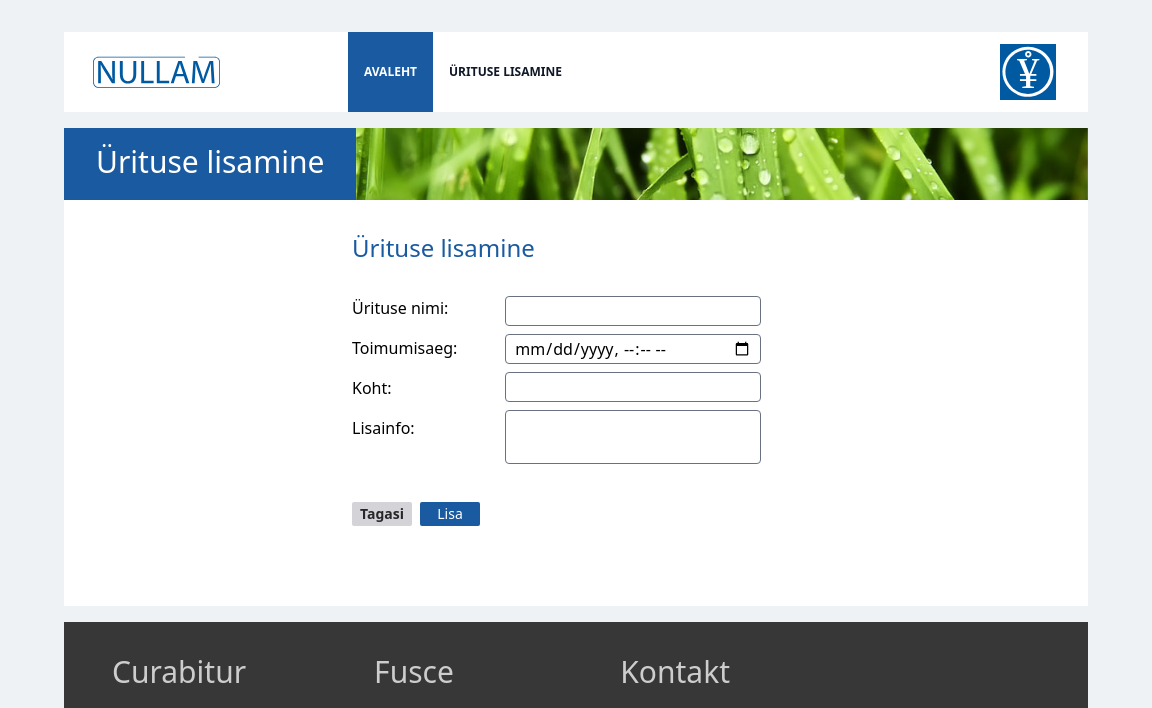
Scenario: LisaYritus komponent › näitab valideerimise vigu tühja vormi esitamisel
What coordinates should you click on to do the following:
click the button "Lisa"
I would click on:
 (450, 514)
Its box is [420,502,480,526].
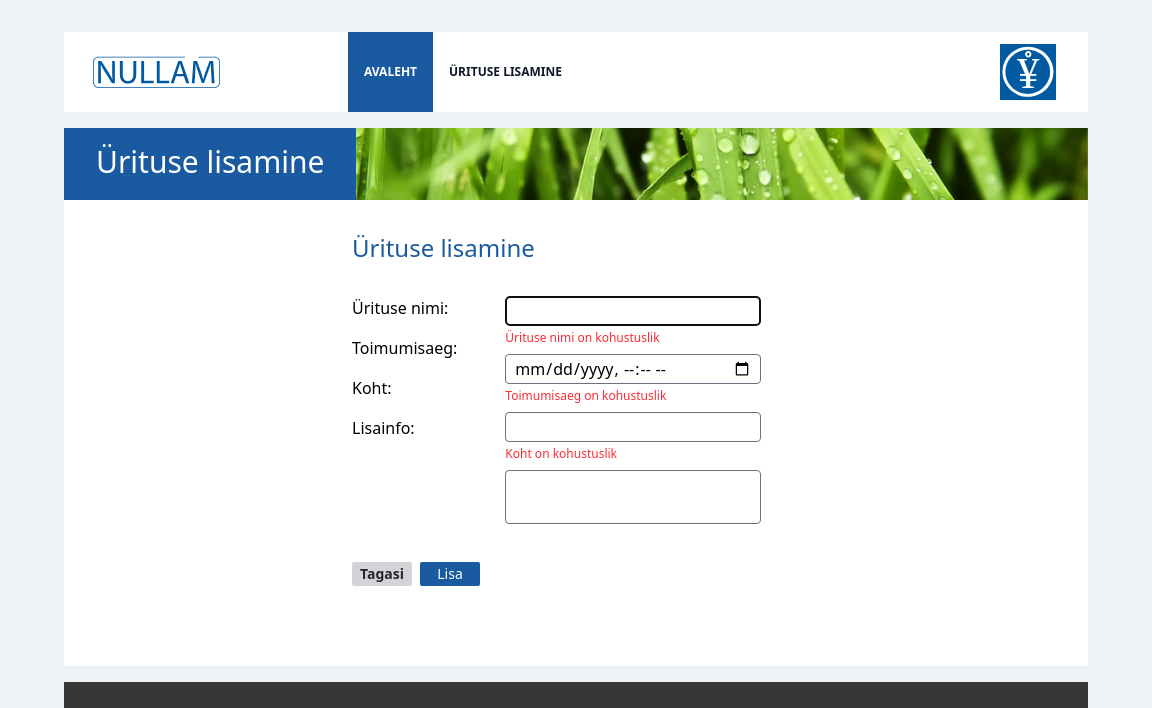
expect the text "Ürituse nimi on kohustuslik" is shown: met, box [505,329,660,346]
expect the text "Toimumisaeg on kohustuslik" is shown: met, box [505,387,666,404]
expect the text "Koht on kohustuslik" is shown: met, box [505,445,617,462]
